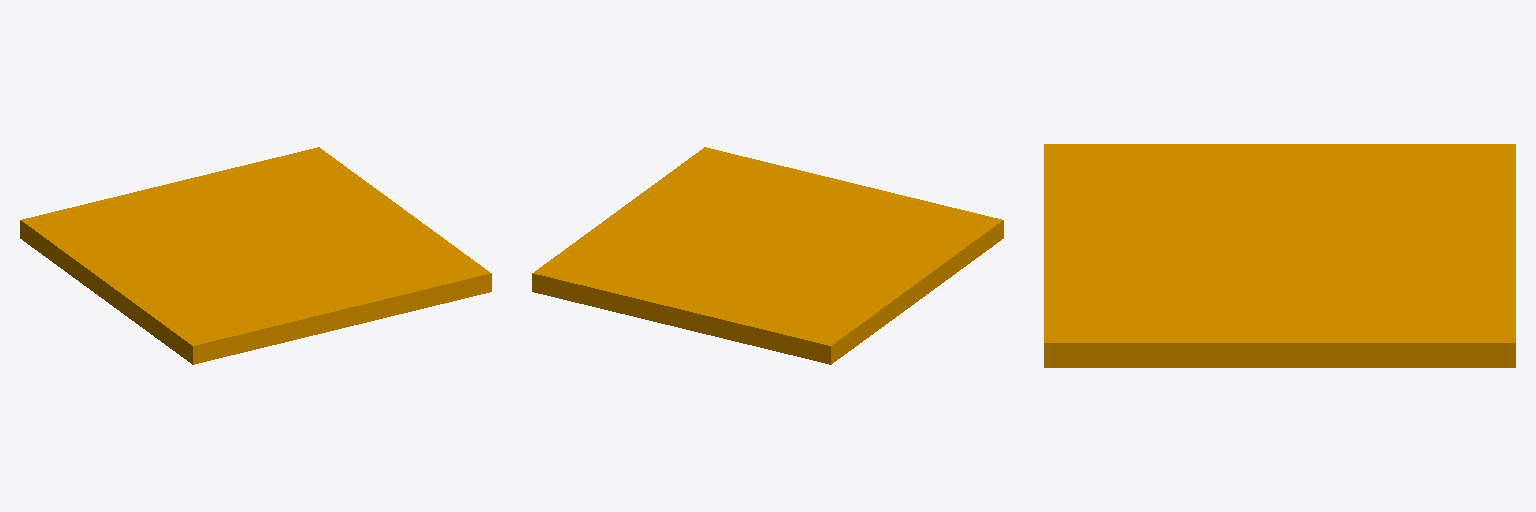
The robot description file, URDF, robot "arm_v1":
<?xml version="1.0"?>
<robot name="arm_v1" xmlns:xacro="http://www.ros.org/wiki/xacro">


	<!-- BASE COMPONENTS -->
	<!-- ***********************************************************************************************-->

	<!-- Base Link -->
	<link name="base_link">
		<visual>
			<geometry>
				<box size="0.1 0.1 0.006"/>
			</geometry>
		</visual>	
		<collision>
			<geometry>
				<box size="0.1 0.1 0.006"/>
			</geometry>
		</collision>
	</link>

	<!-- Base Piece -->	
	<link name="cradle_base">
		<visual>
			<geometry>
				<mesh filename="package://robotics_controller/meshes/cradle_base.STL"/>
			</geometry>
			<origin rpy="0 0 0"/>
		</visual>
		<collision>
			<geometry>
				<mesh filename="package://robotics_controller/meshes/cradle_base.STL"/>
			</geometry> 
			<origin xyz="0 0 0" rpy="0 0 0"/>
		</collision>
		<inertial>
			<mass value="0.06476"/>
			<inertia ixx="0.0" ixy="0.0" ixz="0.0" iyy="0.0" iyz="0.00" izz="0.0"/>
		</inertial>
	</link>

	<!--Base link to cradle_base -->
	<joint name="base_joint" type="revolute">
		<parent link="base_link"/>
		<child link="cradle_base"/>
		<origin xyz="0 0 0.05" rpy="0 0 0"/>
		<axis xyz="0 0 1"/>
		<limit lower="-3.14" upper="3.14" effort="1000.0" velocity="1.0"/>
	</joint>

</robot>

--- Facts derived from the render (not from the file) ---
The picture shows the robot from 3 angles, left to right: view 1: azimuth 30°, elevation 25°; view 2: azimuth 150°, elevation 25°; view 3: azimuth 270°, elevation 25°; orthographic projection.
Model arm_v1 with 2 links and 1 joints (1 revolute), rooted at base_link, posed all joints at 0.
Visible links, largest first — view 1: base_link; view 2: base_link; view 3: base_link.
Link boxes in pixels (left/top/right/bottom): base_link: left=20, top=147, right=491, bottom=364; base_link: left=532, top=147, right=1003, bottom=364; base_link: left=1044, top=144, right=1515, bottom=367.
Bounding box of the posed robot: 0.1 × 0.1 × 0.006 m (x, y, z).
Meshes: 1 distinct files referenced, 0 mesh visuals loaded (none loaded); not drawn: 1 (reference not matched to a file when rendering).